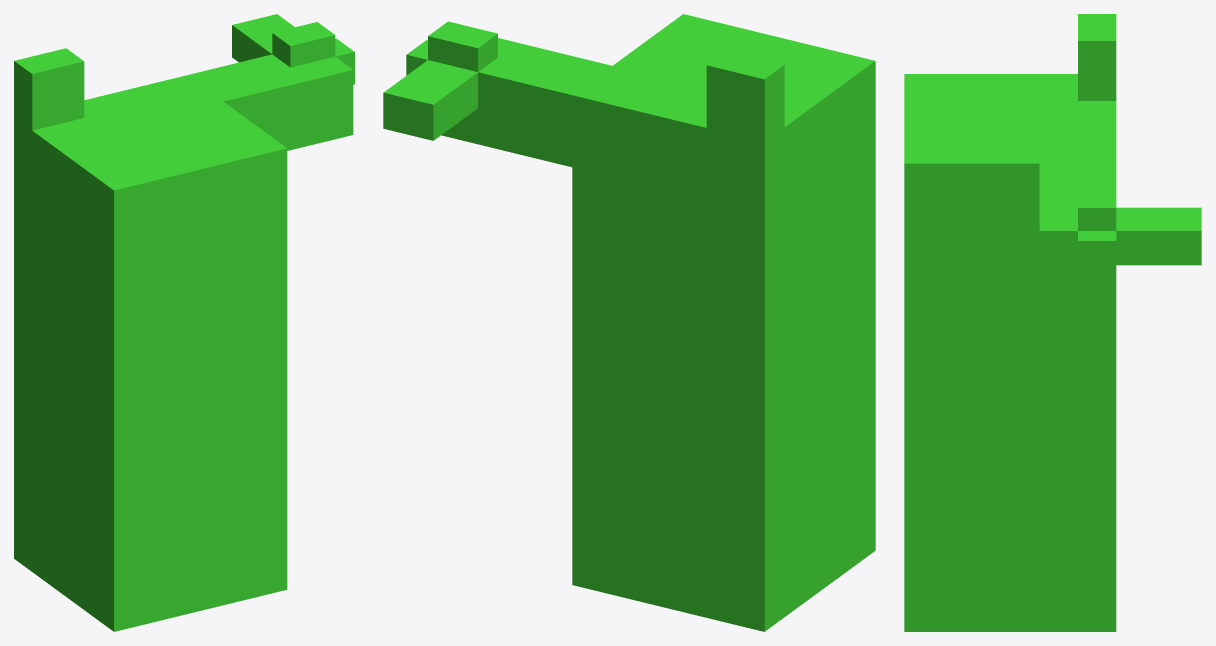
File: glif02.glb
The picture shows the model from 3 angles, left to right: view 1: azimuth 30°, elevation 25°; view 2: azimuth 150°, elevation 25°; view 3: azimuth 270°, elevation 25°; orthographic projection. The views are drawn at different scales.
Visible parts, largest first — view 1: Cube; view 2: Cube; view 3: Cube.
Boxes of the visible parts, left/top/right/bottom form: Cube: left=14, top=14, right=354, bottom=631; Cube: left=383, top=14, right=875, bottom=631; Cube: left=904, top=14, right=1201, bottom=631.
Size of the model in its own units: 3.73 by 5.5 by 2.8.
